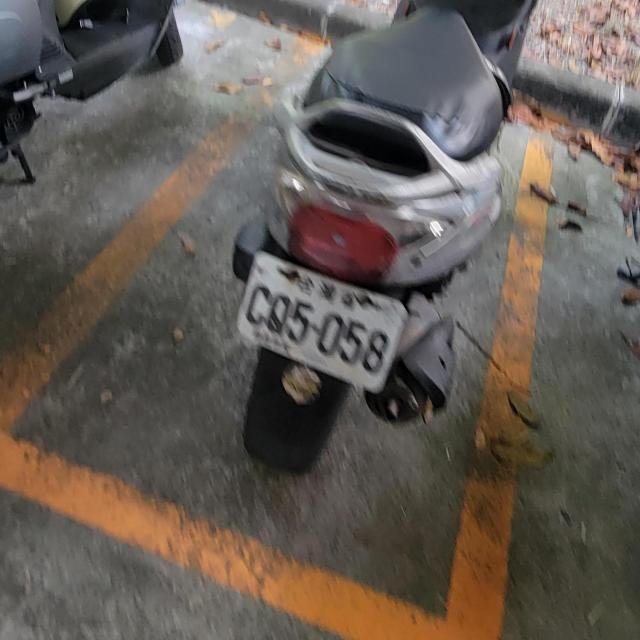W: (222, 244, 416, 399)
